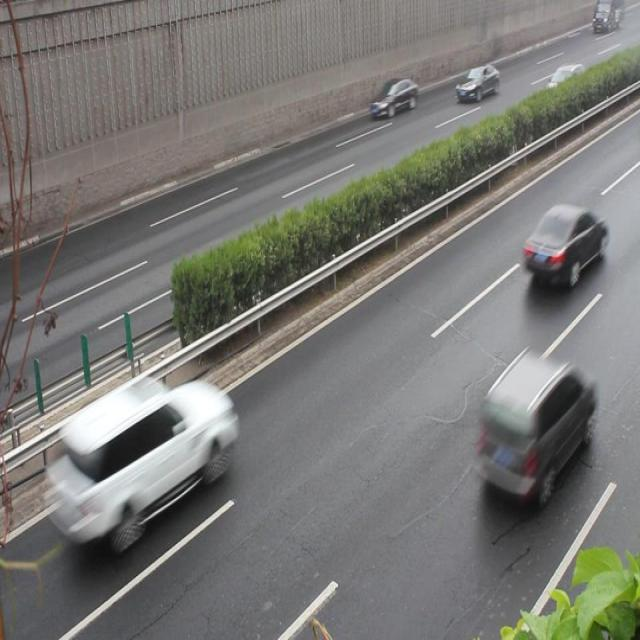car: (62, 376, 232, 537), (476, 351, 594, 504), (522, 204, 606, 282), (370, 78, 416, 118), (540, 66, 584, 107), (454, 64, 497, 104)
